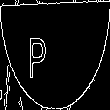P_N: (45, 29, 65, 81)
